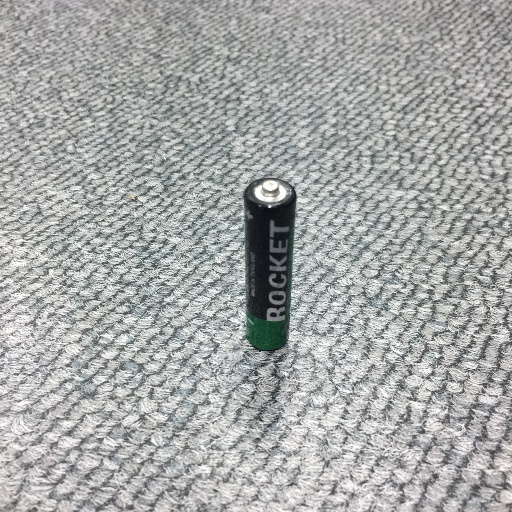Battery_0: (239, 172, 298, 361)
